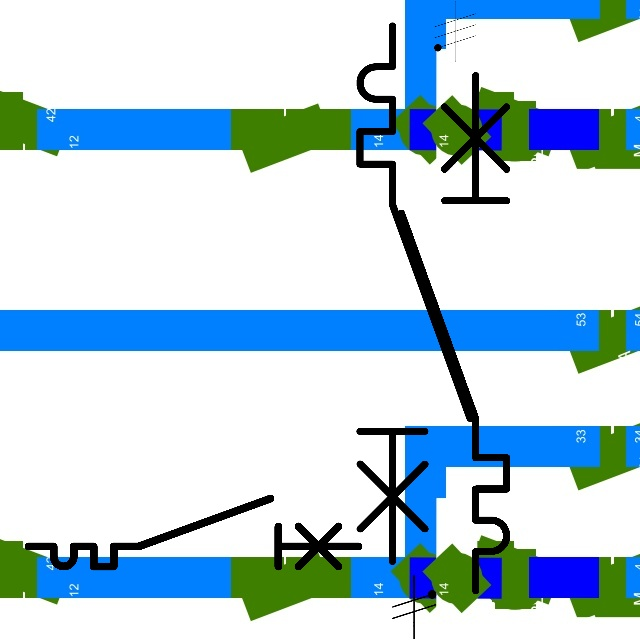interruptor_termomagnetico: (346, 12, 484, 575), (388, 62, 520, 604), (20, 490, 367, 575)
